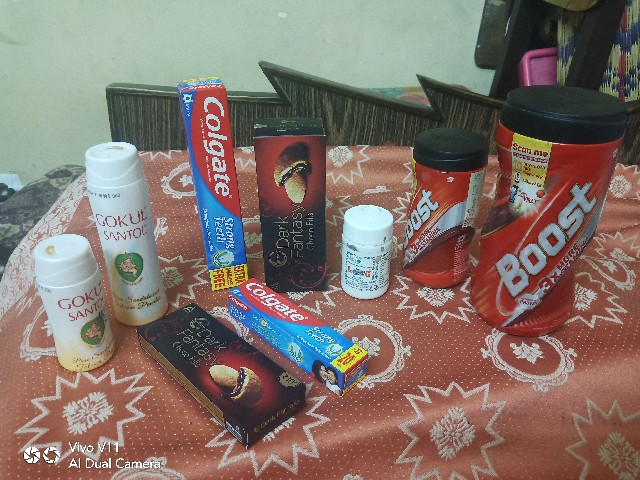boost big: (469, 83, 625, 335)
boost small: (405, 126, 489, 297)
colgatetoothpaste big: (166, 65, 247, 291)
colgatetoothpaste small: (227, 273, 383, 387)
darkfantasy big: (245, 81, 345, 293)
darkfantasy small: (135, 302, 307, 466)
gokulsantol big: (85, 136, 168, 325)
gokulsantol small: (27, 232, 112, 373)
lgasafoetidapowder small: (337, 202, 398, 299)
